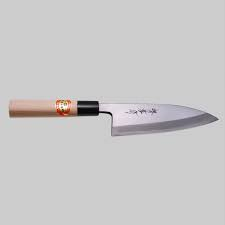knife: (7, 97, 220, 139)
